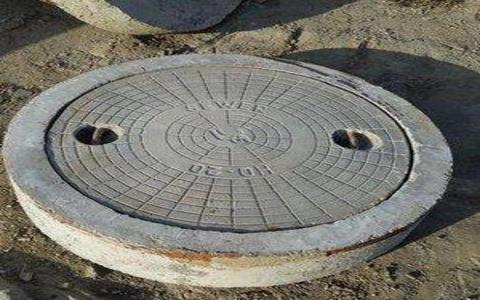proper manhole: (31, 59, 417, 230)
